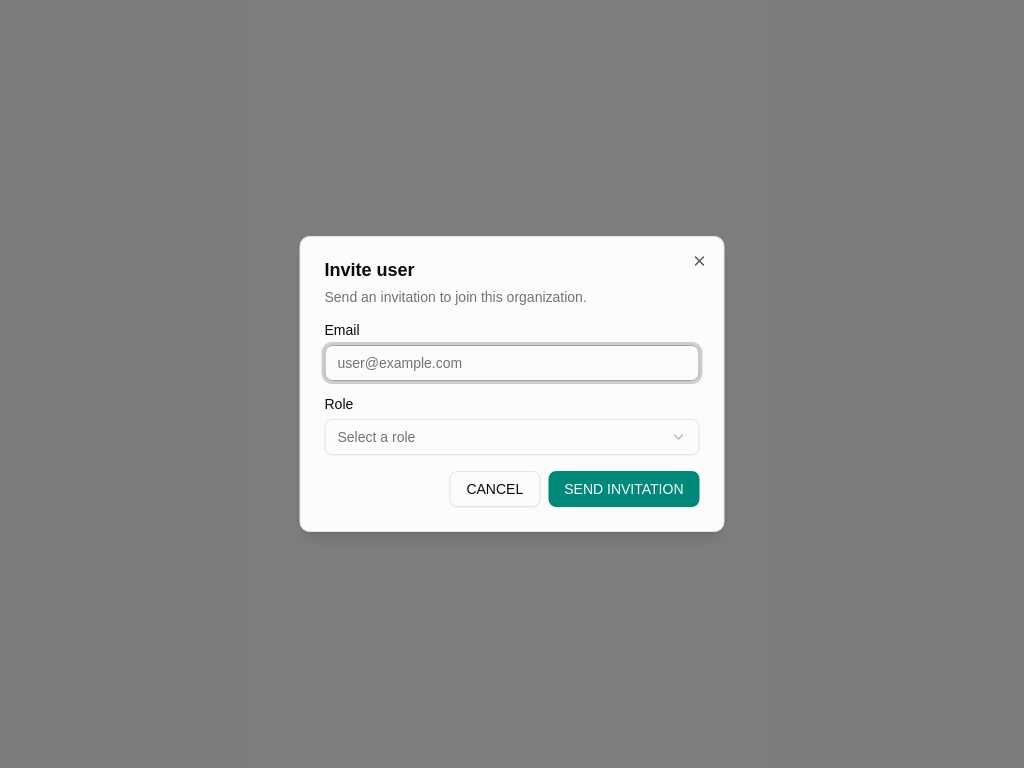
Test case: Admin InviteUserDialog › blocks submission and shows errors when email and role are empty
Click the button with test id "admin-invite-submit".
click(624, 489)  # box top-left (548, 471), bottom-right (700, 507)
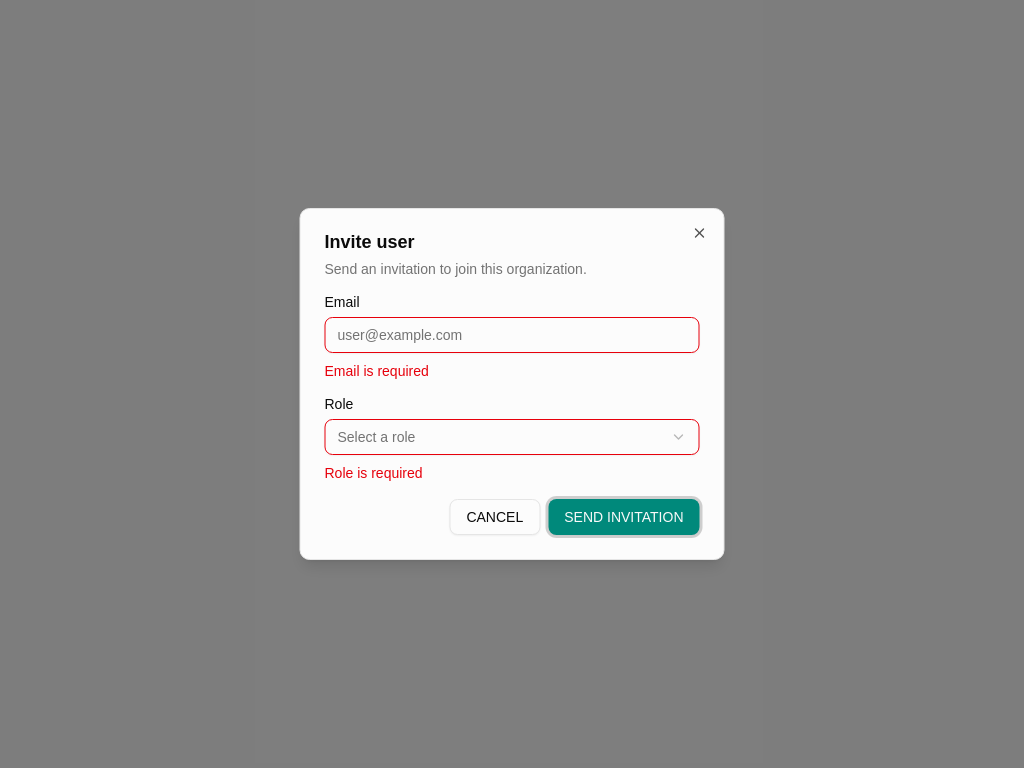
expect the text "Email is required" is shown: met, box top-left (324, 363), bottom-right (429, 379)
expect the text "Role is required" is shown: met, box top-left (324, 465), bottom-right (423, 481)
